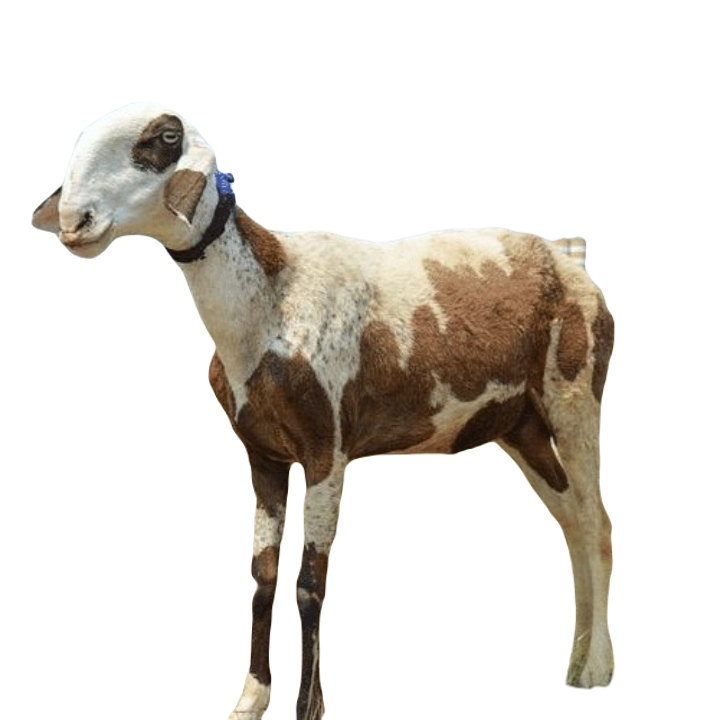Sheep: (29, 100, 623, 719)
